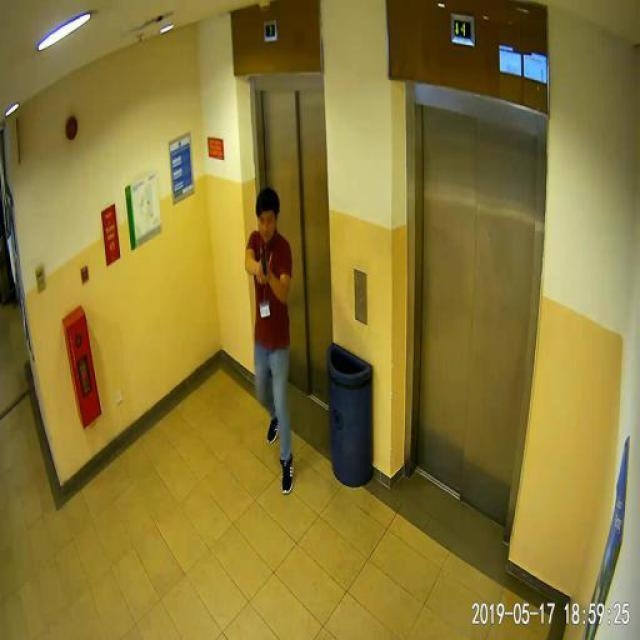weapon: (255, 253, 272, 278)
